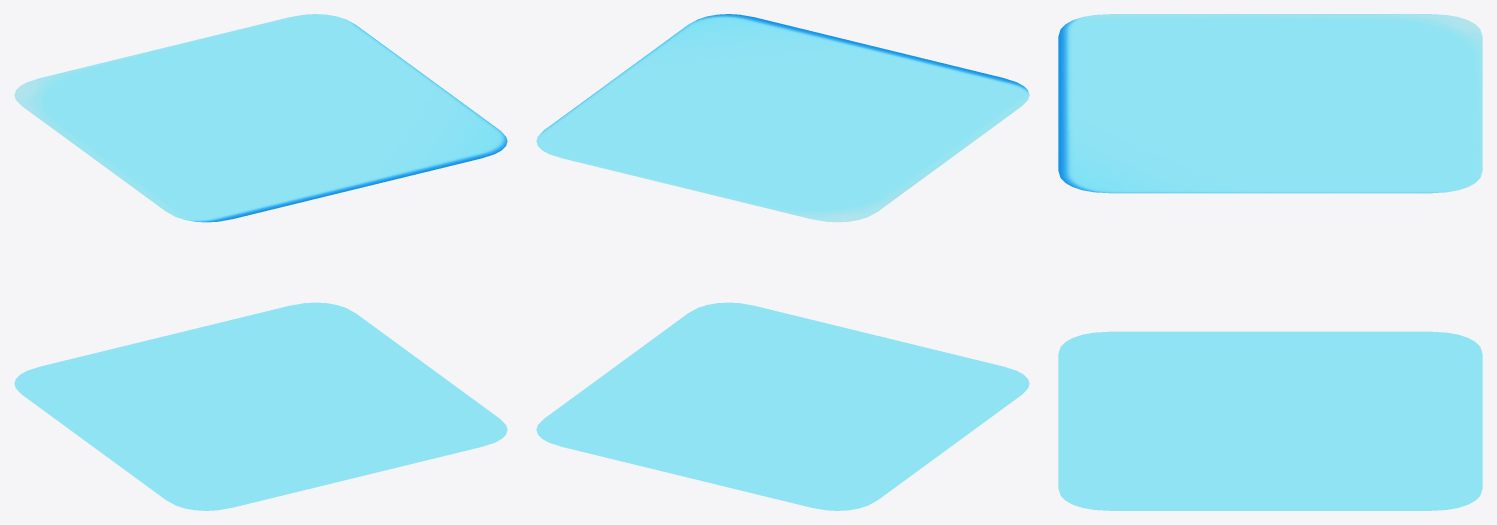
Rendered from FrontFace.glb.
3 views of the same model, side by side, from view 1: azimuth 30°, elevation 25°; view 2: azimuth 150°, elevation 25°; view 3: azimuth 270°, elevation 25° (orthographic). The views are drawn at different scales.
Parts seen in each view (by area): view 1: FrontFace; view 2: FrontFace; view 3: FrontFace.
Part boxes in pixels (<box>): FrontFace: <box>14,14,507,510</box>; FrontFace: <box>536,14,1029,510</box>; FrontFace: <box>1058,14,1482,510</box>.
Size of the model in its own units: 0.726 by 0.5995 by 0.726.
1 material, 1 textured.
